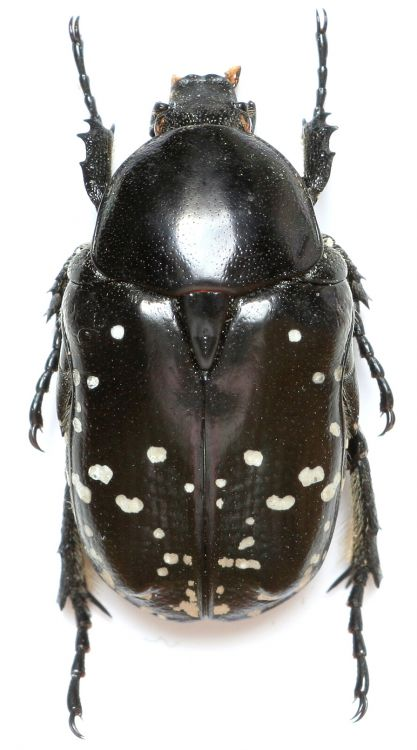Protaetia_funebris: (24, 8, 399, 746)
